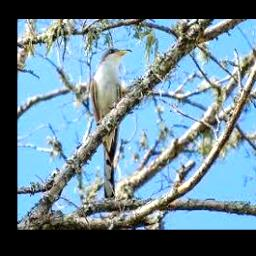Cuckoo: (90, 48, 130, 203)
